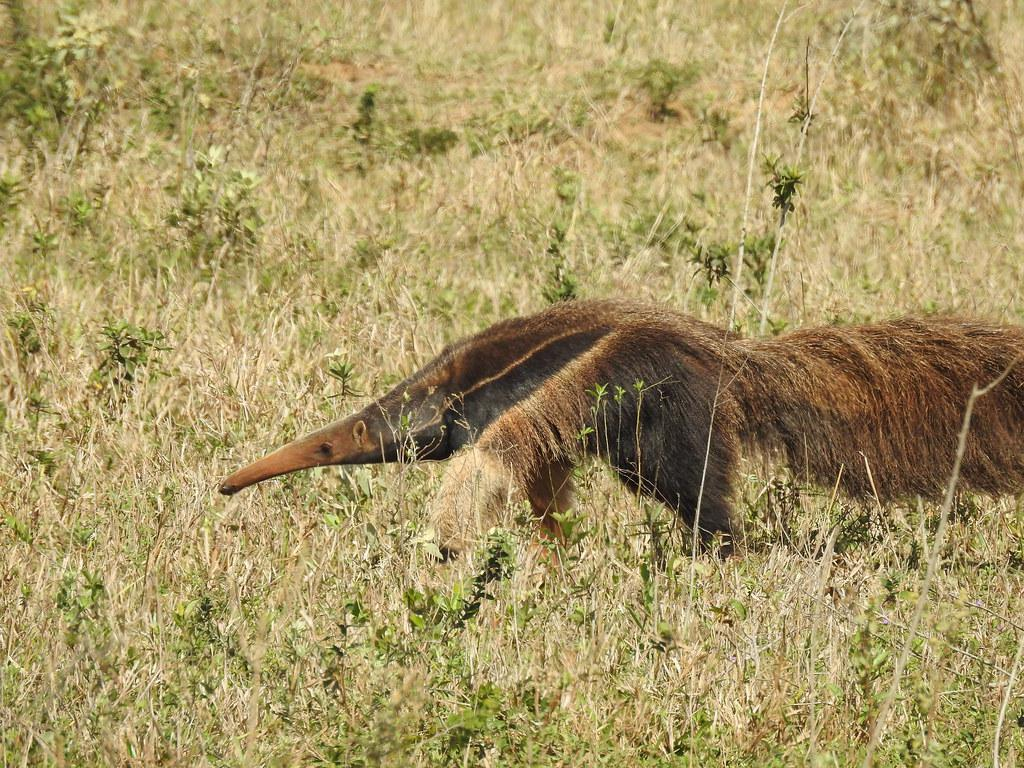TamanduaBandeira: (210, 297, 1018, 574)
